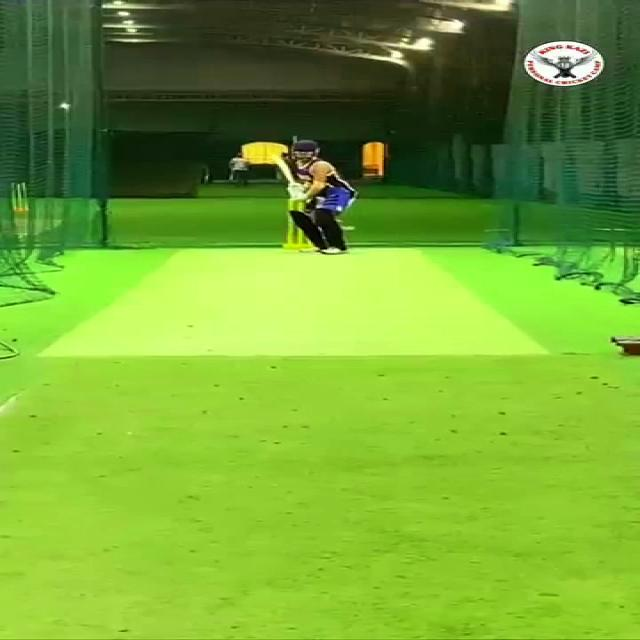batsman: (268, 131, 364, 259)
